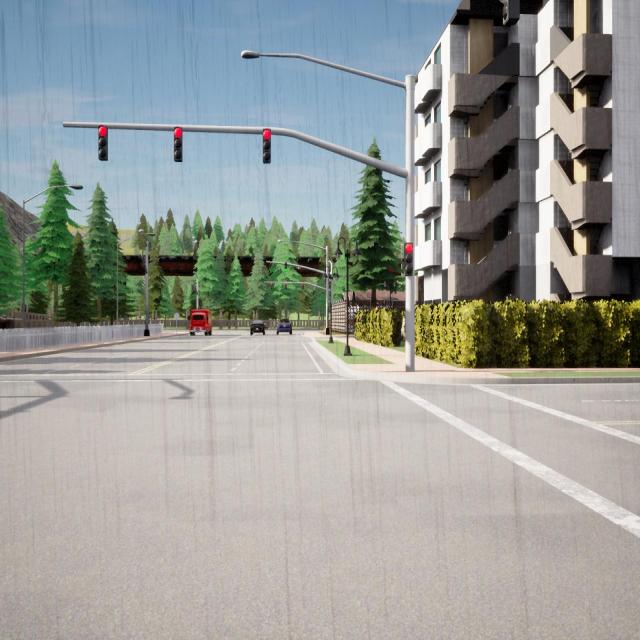Traffic_Signs: (174, 313, 180, 319)
Vehicle: (190, 309, 212, 336), (250, 319, 265, 336), (277, 318, 292, 334)
traffic_light: (499, 0, 522, 27), (404, 242, 414, 278), (262, 128, 272, 164), (98, 126, 108, 160), (174, 126, 183, 162), (284, 263, 287, 272), (270, 283, 272, 289), (285, 283, 287, 289), (302, 283, 304, 289), (192, 285, 193, 291), (193, 286, 194, 291), (195, 287, 196, 292)
